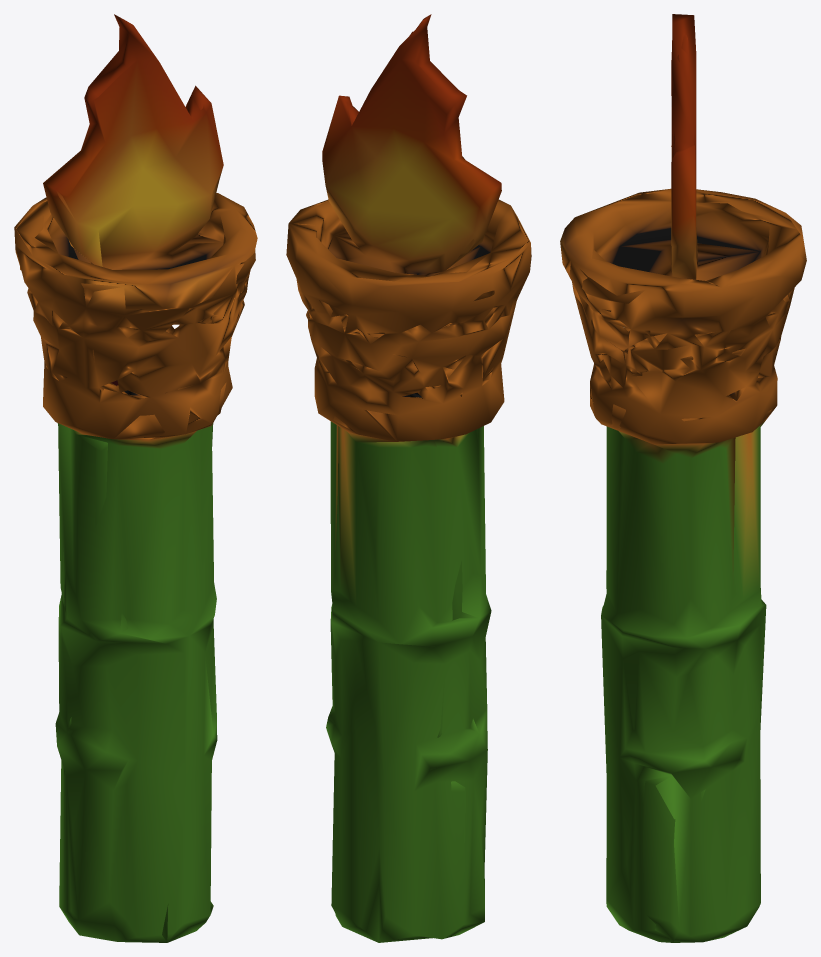
Rendered from gen3d-tiki-torch-lod0.glb.
3 renders of one model, left to right at view 1: azimuth 30°, elevation 25°; view 2: azimuth 150°, elevation 25°; view 3: azimuth 270°, elevation 25°, orthographic.
Parts seen in each view (by area): view 1: part_0; view 2: part_0; view 3: part_0.
Boxes of the visible parts, box(x1,y1,x2,y2) form: part_0: box(14, 14, 257, 942); part_0: box(286, 14, 531, 942); part_0: box(560, 14, 806, 942).
Bounding box in the file's own units: 0.2495 × 0.9982 × 0.2509.
